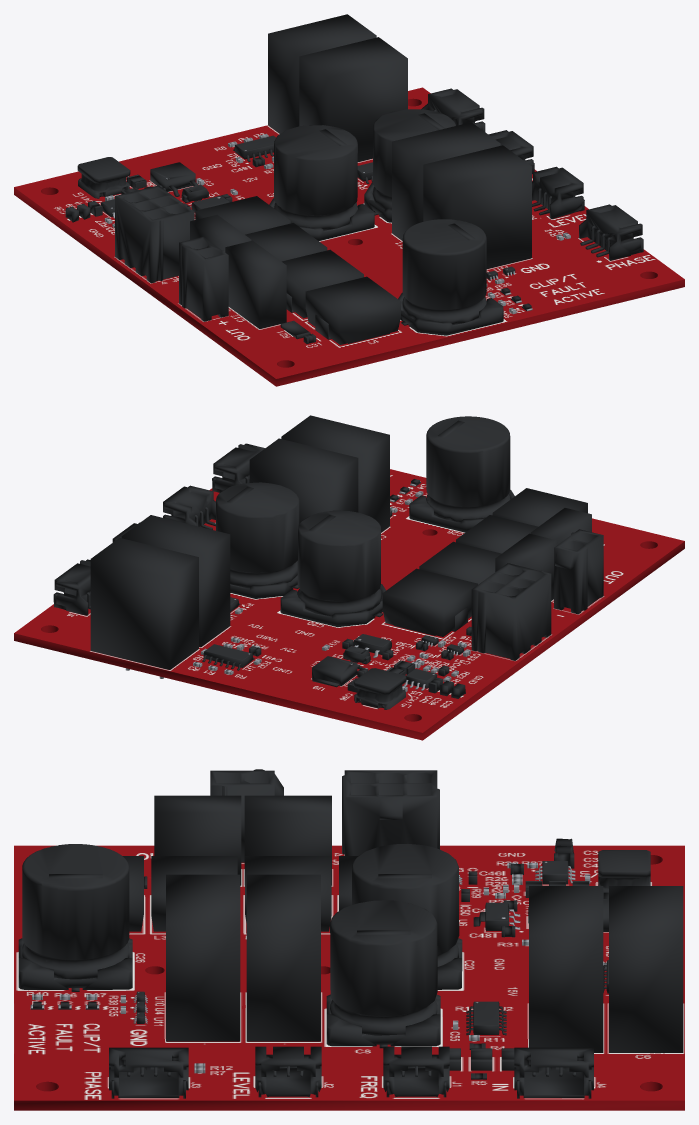
The model's file is main_board.dae.
The picture shows the model from 3 angles, top to bottom: view 1: azimuth 30°, elevation 25°; view 2: azimuth 150°, elevation 25°; view 3: azimuth 270°, elevation 25°; orthographic projection. The views are drawn at different scales.
Visible parts, largest first — view 1: Subwoofer amplifier PCB; view 2: Subwoofer amplifier PCB; view 3: Subwoofer amplifier PCB.
Part boxes in pixels (<box>): Subwoofer amplifier PCB: <box>14,14,684,386</box>; Subwoofer amplifier PCB: <box>14,415,684,740</box>; Subwoofer amplifier PCB: <box>14,769,684,1110</box>.
Bounding box in the file's own units: 90 × 100 × 24.4.
Materials: 5 (2 with a texture image).
